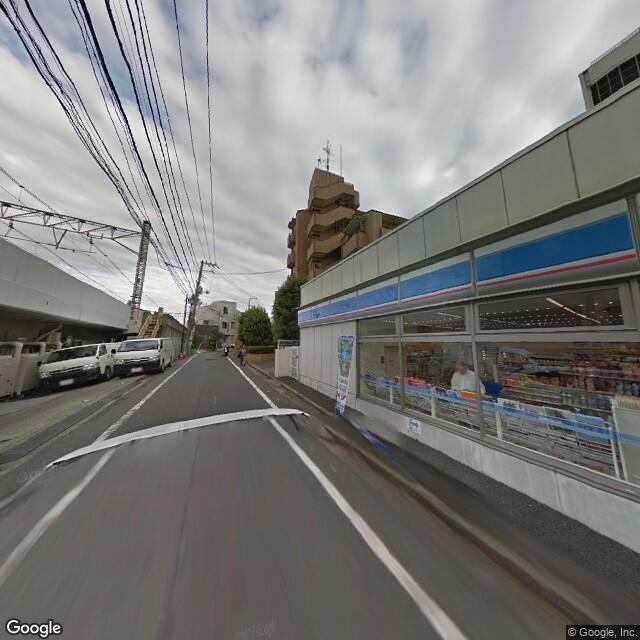lawson: (299, 184, 639, 327)
